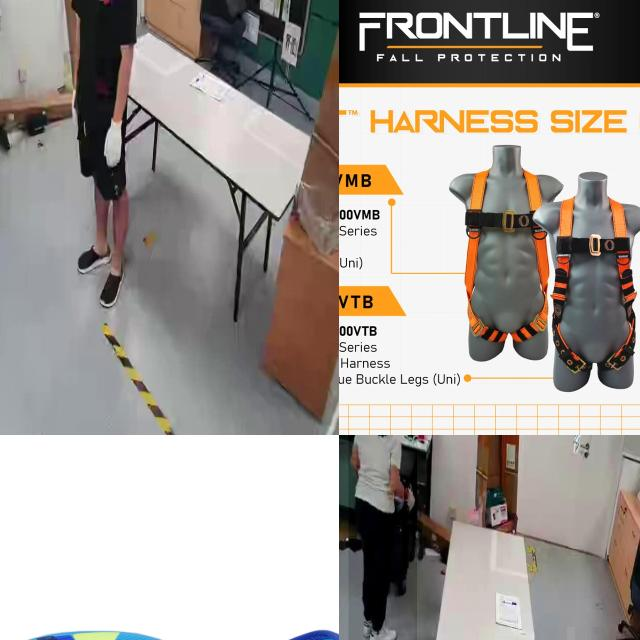Harness: (462, 168, 554, 344), (549, 196, 640, 373)
hand_glove: (102, 112, 128, 176), (404, 484, 418, 519)
person: (64, 0, 139, 308), (348, 435, 417, 640)
shoes: (97, 260, 128, 316), (75, 237, 112, 275), (366, 617, 398, 640)
